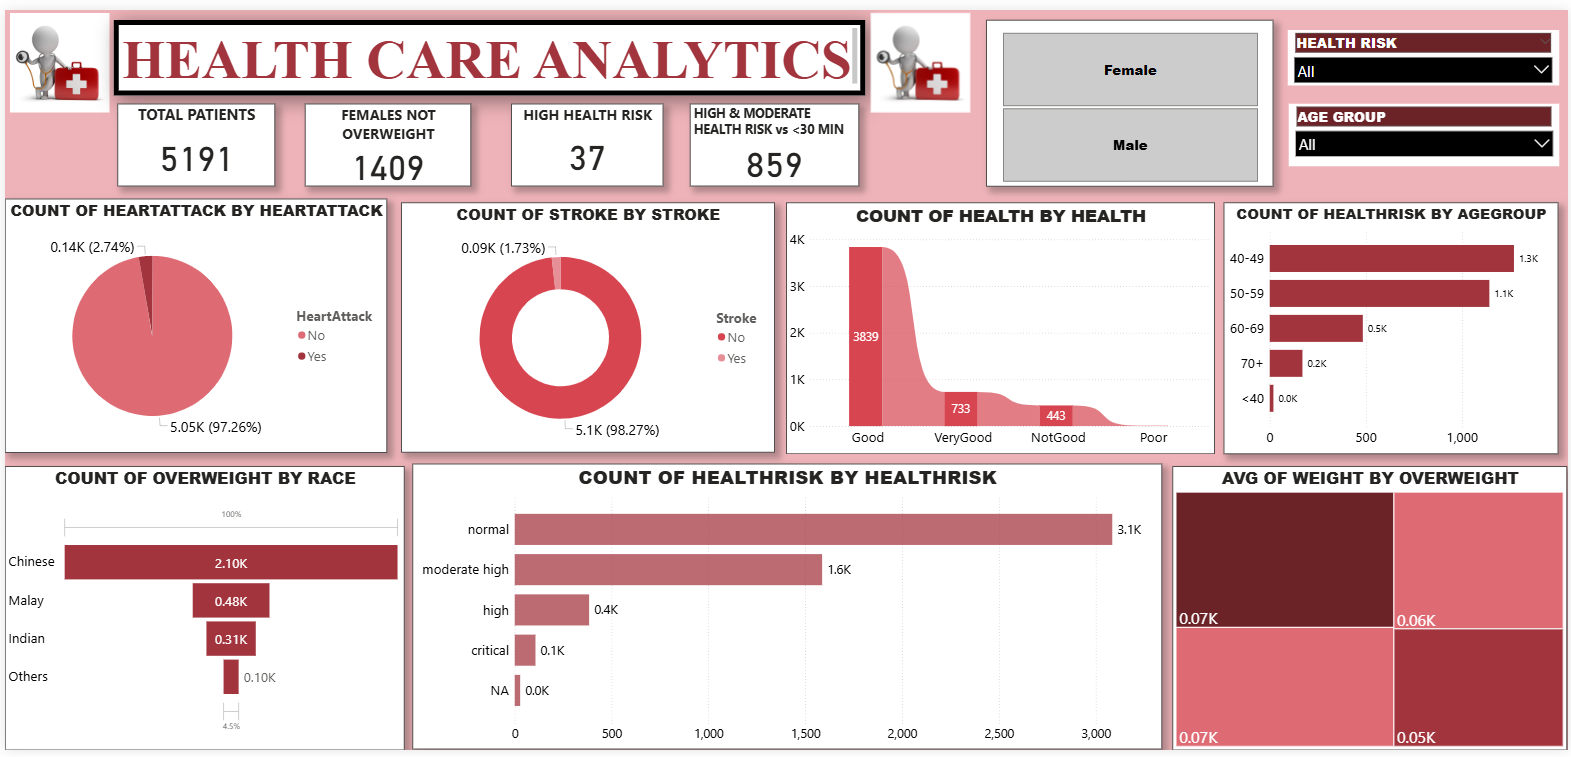

The page's visual inventory and layout, read from the dashboard file:
{"tool":"powerbi","page":{"name":"Page 1","canvas":[2500,1184],"ordinal":0},"visuals":[{"type":"image","box":[0,0,175.6,168.8],"z":0},{"type":"textbox","box":[174.9,16.1,1202.5,120.7],"z":1000},{"type":"slicer","fields":{"Values":["Sample_Data.Gender"]},"box":[1570,16,459.2,266.7],"z":2000},{"type":"card","title":"TOTAL PATIENTS","fields":{"Values":["CountNonNull(Sample_Data.AgeGrp)"]},"box":[179.4,149.9,252.1,131.7],"z":3000},{"type":"card","title":"FEMALES NOT OVERWEIGHT","fields":{"Values":["CountNonNull(Sample_Data.Overweight)"]},"box":[479.2,149.9,265.7,131.7],"z":4000},{"type":"card","title":"HIGH HEALTH RISK","fields":{"Values":["CountNonNull(Sample_Data.Smoking)"]},"box":[810.8,149.9,243,131.7],"z":5000},{"type":"card","title":"HIGH & MODERATE HEALTH RISK vs <30 MIN","fields":{"Values":["CountNonNull(Sample_Data.Exercise)"]},"box":[1096.9,149.9,270.3,131.7],"z":6000},{"type":"slicer","fields":{"Values":["Sample_Data.healthRisk"]},"box":[2051.1,32.2,434.4,88.5],"z":7000},{"type":"pieChart","title":"COUNT OF HEARTATTACK BY HEARTATTACK","fields":{"Y":["CountNonNull(Sample_Data.HeartAttack)"],"Category":["Sample_Data.HeartAttack"]},"box":[0,301.6,611.3,406.2],"z":8000},{"type":"donutChart","title":"COUNT OF STROKE BY STROKE","fields":{"Y":["CountNonNull(Sample_Data.Stroke)"],"Category":["Sample_Data.Stroke"]},"box":[633.4,307.7,597.2,400.2],"z":9000},{"type":"barChart","title":"COUNT OF HEALTHRISK BY AGEGROUP","fields":{"Category":["Sample_Data.AgeGrp"],"Y":["CountNonNull(Sample_Data.healthRisk)"]},"box":[1950.6,307.7,534.9,402.2],"z":10000},{"type":"ribbonChart","title":"COUNT OF HEALTH BY HEALTH","fields":{"Category":["Sample_Data.Health"],"Y":["CountNonNull(Sample_Data.Health)"]},"box":[1250.8,307.7,685.7,402.2],"z":11000},{"type":"image","box":[1333.2,0,261.4,168.9],"z":12000},{"type":"funnel","title":"COUNT OF OVERWEIGHT BY RACE","fields":{"Category":["Sample_Data.Race"],"Y":["CountNonNull(Sample_Data.Overweight)"]},"box":[0,729.9,639.5,454.5],"z":13000},{"type":"barChart","title":"COUNT OF HEALTHRISK BY HEALTHRISK","fields":{"Category":["Sample_Data.healthRisk"],"Y":["CountNonNull(Sample_Data.healthRisk)"]},"box":[651.8,726.7,1199.1,456.5],"z":14000},{"type":"treemap","title":"AVG OF WEIGHT BY OVERWEIGHT","fields":{"Group":["Sample_Data.Overweight"],"Values":["Avg(Sample_Data.Weight)"]},"box":[1868.1,729.9,631.4,454.5],"z":15000},{"type":"slicer","fields":{"Values":["Sample_Data.AgeGrp"]},"box":[2053.3,150.4,433.1,100.3],"z":16000}]}

Visuals, with their boxes in screenshot pixels (x1, y1, x2, y2), scaled from the page's 2500x1184 canvas onto the 1571x757 screenshot:
image: (left=0, top=0, right=110, bottom=108)
textbox: (left=110, top=10, right=866, bottom=87)
slicer - Sample_Data.Gender: (left=987, top=10, right=1275, bottom=181)
"TOTAL PATIENTS" card: (left=113, top=96, right=271, bottom=180)
"FEMALES NOT OVERWEIGHT" card: (left=301, top=96, right=468, bottom=180)
"HIGH HEALTH RISK" card: (left=510, top=96, right=662, bottom=180)
"HIGH & MODERATE HEALTH RISK vs <30 MIN" card: (left=689, top=96, right=859, bottom=180)
slicer - Sample_Data.healthRisk: (left=1289, top=21, right=1562, bottom=77)
"COUNT OF HEARTATTACK BY HEARTATTACK" pieChart: (left=0, top=193, right=384, bottom=453)
"COUNT OF STROKE BY STROKE" donutChart: (left=398, top=197, right=773, bottom=453)
"COUNT OF HEALTHRISK BY AGEGROUP" barChart: (left=1226, top=197, right=1562, bottom=454)
"COUNT OF HEALTH BY HEALTH" ribbonChart: (left=786, top=197, right=1217, bottom=454)
image: (left=838, top=0, right=1002, bottom=108)
"COUNT OF OVERWEIGHT BY RACE" funnel: (left=0, top=467, right=402, bottom=756)
"COUNT OF HEALTHRISK BY HEALTHRISK" barChart: (left=410, top=465, right=1163, bottom=756)
"AVG OF WEIGHT BY OVERWEIGHT" treemap: (left=1174, top=467, right=1570, bottom=756)
slicer - Sample_Data.AgeGrp: (left=1290, top=96, right=1562, bottom=160)
